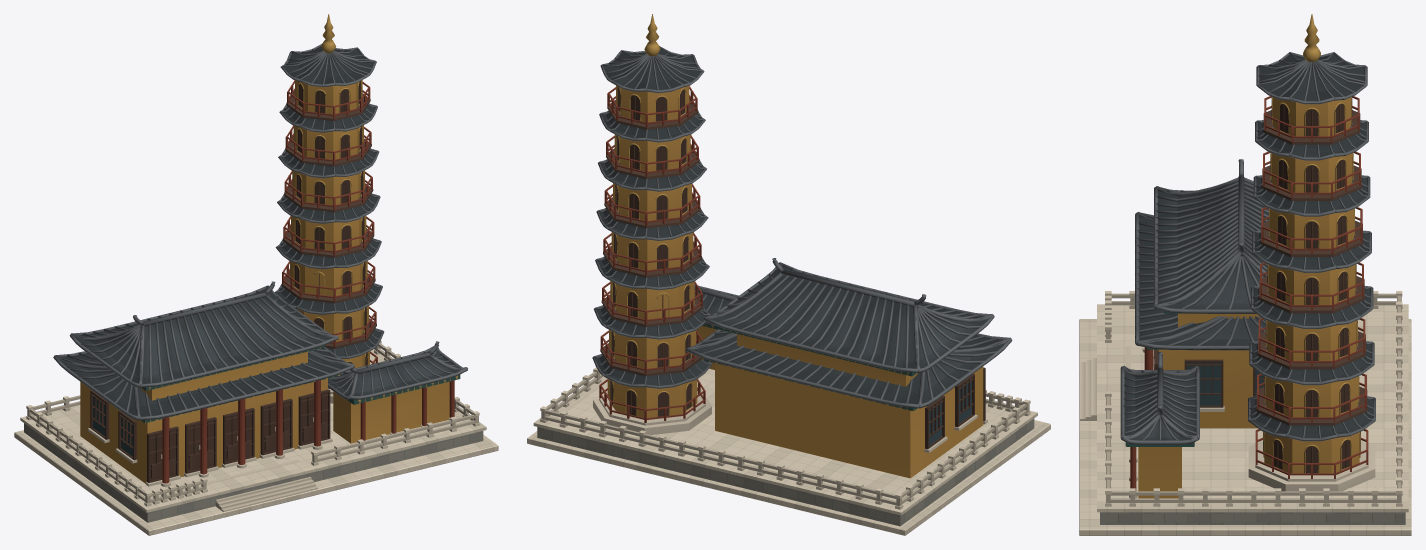
File: 鸡鸣寺_网页版.glb
3 views of the same model, side by side, from view 1: azimuth 30°, elevation 25°; view 2: azimuth 150°, elevation 25°; view 3: azimuth 270°, elevation 25° (orthographic). The views are drawn at different scales.
Parts seen in each view (by area): view 1: 鸡鸣寺_WEB_建筑; view 2: 鸡鸣寺_WEB_建筑; view 3: 鸡鸣寺_WEB_建筑.
Part boxes in pixels (left/top/right/bottom): 鸡鸣寺_WEB_建筑: left=14, top=14, right=498, bottom=535; 鸡鸣寺_WEB_建筑: left=527, top=14, right=1050, bottom=535; 鸡鸣寺_WEB_建筑: left=1079, top=14, right=1411, bottom=535.
Bounding box in the file's own units: 24 × 25.3 × 16.
Materials: 12 (4 with a texture image).
